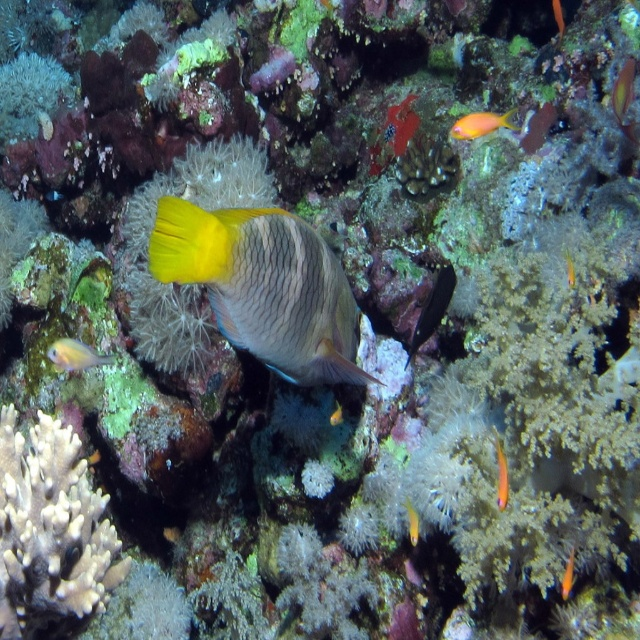Fish: (135, 193, 377, 433), (46, 333, 118, 371), (446, 108, 523, 140), (612, 57, 639, 141), (487, 435, 513, 512), (400, 498, 422, 552), (558, 546, 575, 599), (552, 0, 568, 41), (566, 254, 578, 287), (331, 404, 344, 428), (162, 526, 178, 545)
